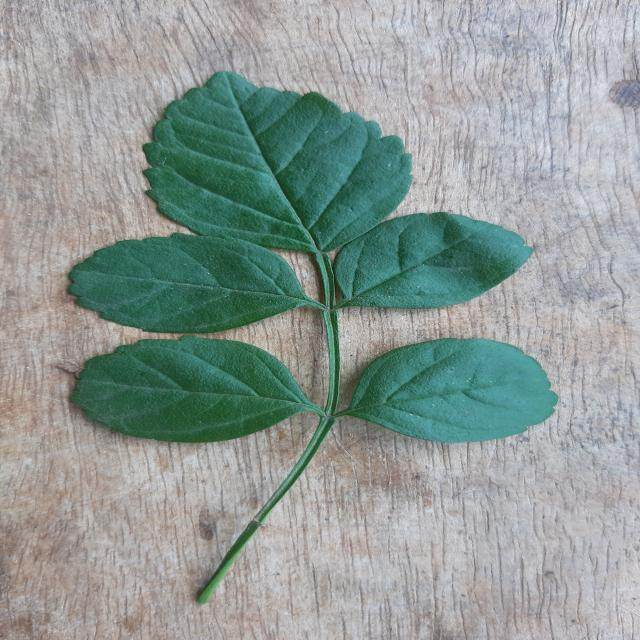tecoma: (69, 72, 558, 516)
